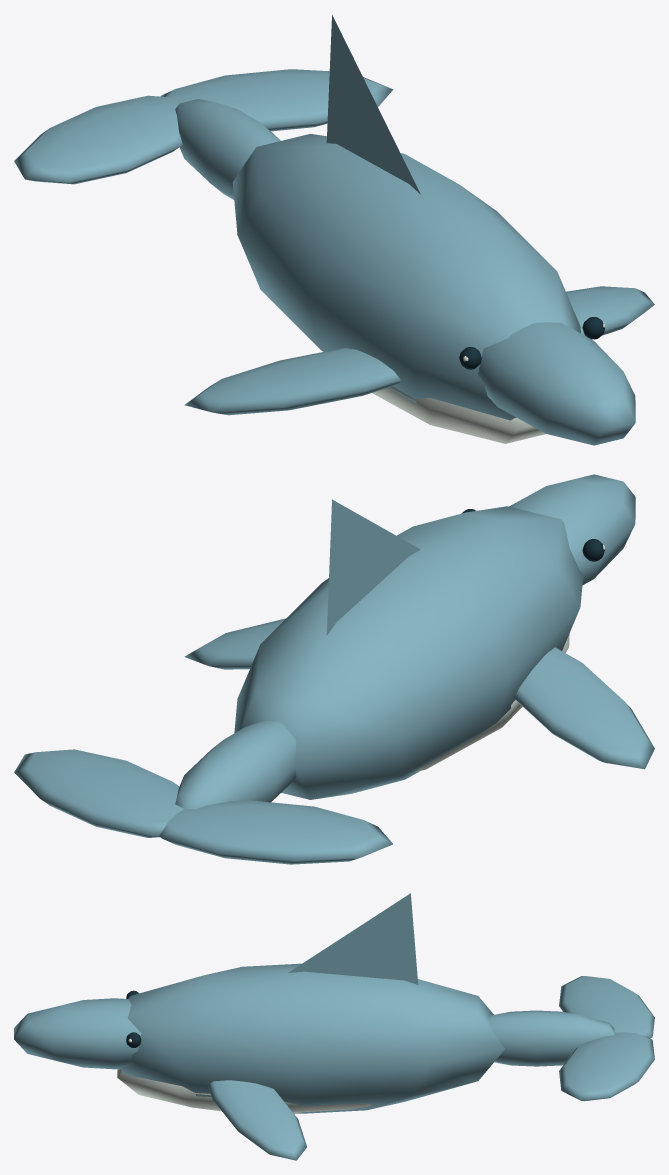
The model's file is ocean-dolphin-0.glb.
3 renders of one model, top to bottom at view 1: azimuth 30°, elevation 25°; view 2: azimuth 150°, elevation 25°; view 3: azimuth 270°, elevation 25°, orthographic. The views are drawn at different scales.
Parts seen in each view (by area): view 1: ocean-dolphin-0, Tail; view 2: ocean-dolphin-0, Tail; view 3: ocean-dolphin-0, Tail.
Part boxes in pixels (x1=…): ocean-dolphin-0: x1=184, y1=15, x2=654, y2=445; Tail: x1=14, y1=69, x2=393, y2=199; ocean-dolphin-0: x1=184, y1=474, x2=654, y2=799; Tail: x1=14, y1=720, x2=392, y2=864; ocean-dolphin-0: x1=14, y1=893, x2=504, y2=1160; Tail: x1=489, y1=976, x2=654, y2=1101.
Size of the model in its own units: 2.09 by 1.33 by 3.64.
